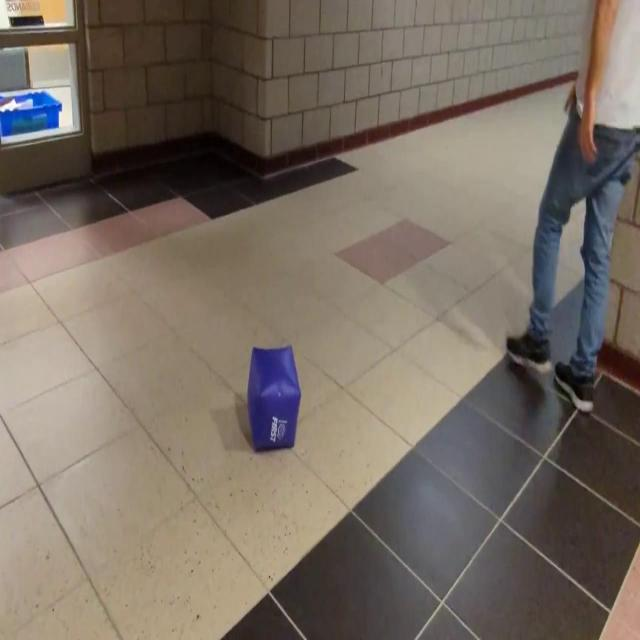frc_cube: (248, 346, 302, 452)
